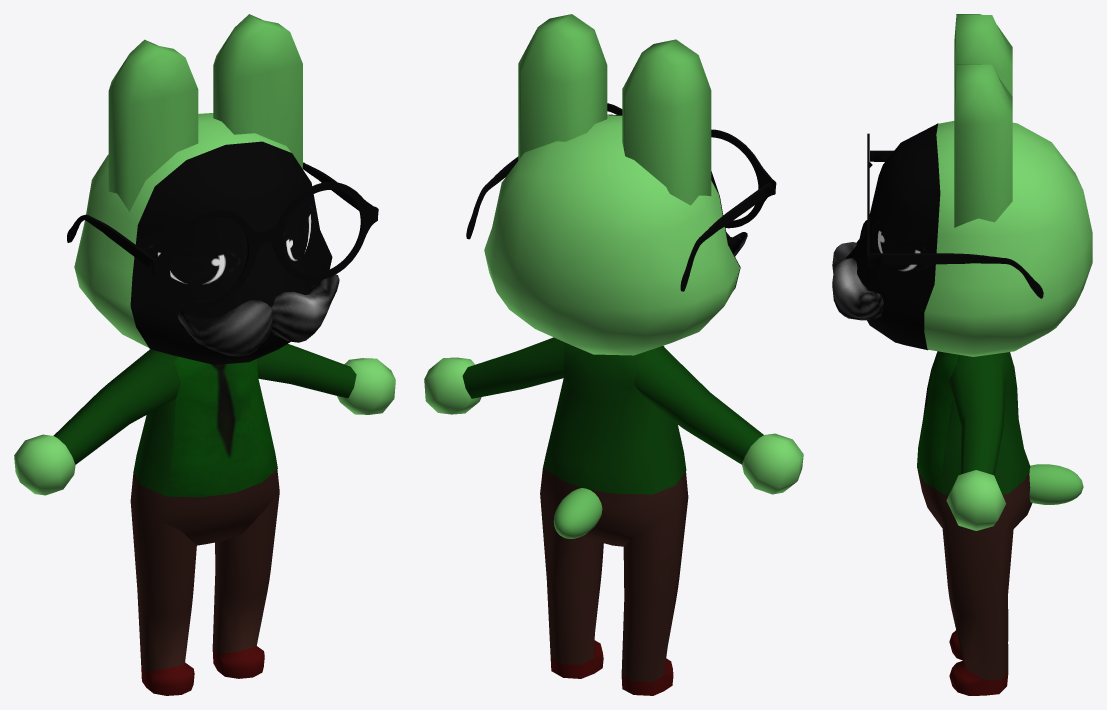
The model's file is psychologist.glb.
3 renders of one model, left to right at view 1: azimuth 30°, elevation 25°; view 2: azimuth 150°, elevation 25°; view 3: azimuth 270°, elevation 25°, orthographic. The views are drawn at different scales.
Visible parts, largest first — view 1: Object_3, Object_9, Object_7, Object_10, Object_6, Object_2, Object_4, Object_5, Object_8; view 2: Object_10, Object_6, Object_9, Object_7, Object_4, Object_8; view 3: Object_10, Object_9, Object_3, Object_7, Object_6, Object_2, Object_4, Object_5, Object_8.
Boxes of the visible parts, box(x1,y1,x2,y2) form: Object_3: box(130, 141, 332, 364); Object_9: box(108, 14, 302, 211); Object_7: box(130, 469, 279, 671); Object_10: box(14, 113, 395, 495); Object_6: box(53, 344, 356, 495); Object_2: box(165, 356, 277, 497); Object_4: box(67, 162, 378, 308); Object_5: box(177, 274, 339, 356); Object_8: box(141, 646, 264, 695); Object_10: box(424, 115, 803, 494); Object_6: box(462, 337, 763, 494); Object_9: box(518, 14, 711, 538); Object_7: box(540, 468, 688, 681); Object_4: box(466, 103, 776, 291); Object_8: box(550, 640, 673, 695); Object_10: box(924, 121, 1092, 530); Object_9: box(954, 14, 1083, 504); Object_3: box(846, 123, 940, 350); Object_7: box(917, 469, 1032, 679); Object_6: box(942, 352, 1030, 494); Object_2: box(917, 351, 958, 493); Object_4: box(867, 133, 1043, 298); Object_5: box(832, 220, 883, 320); Object_8: box(949, 630, 1008, 695).
Size of the model in its own units: 3.86 by 6.39 by 2.39.
Materials: 9 (3 with a texture image).
